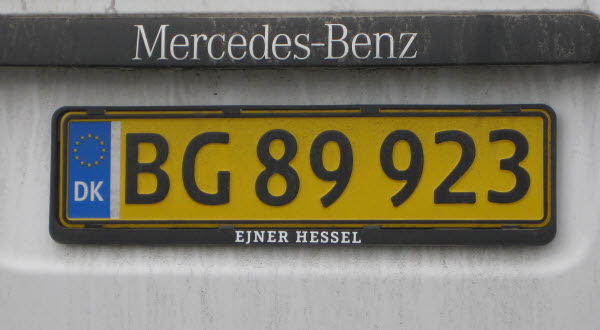license_plate: (63, 112, 549, 222)
